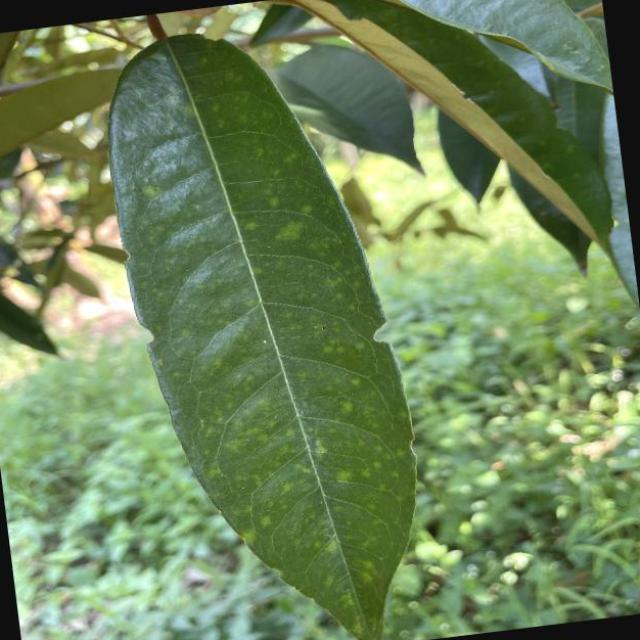Leaf Spot: (86, 0, 450, 640)
